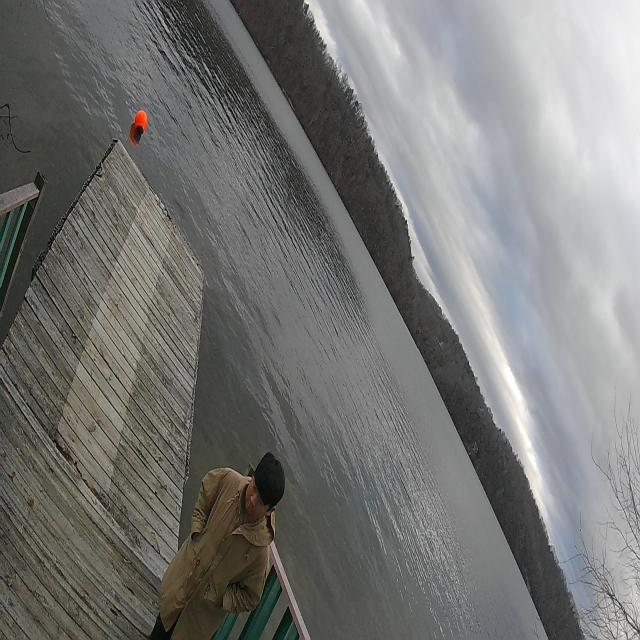Buoy: (132, 103, 148, 142)
